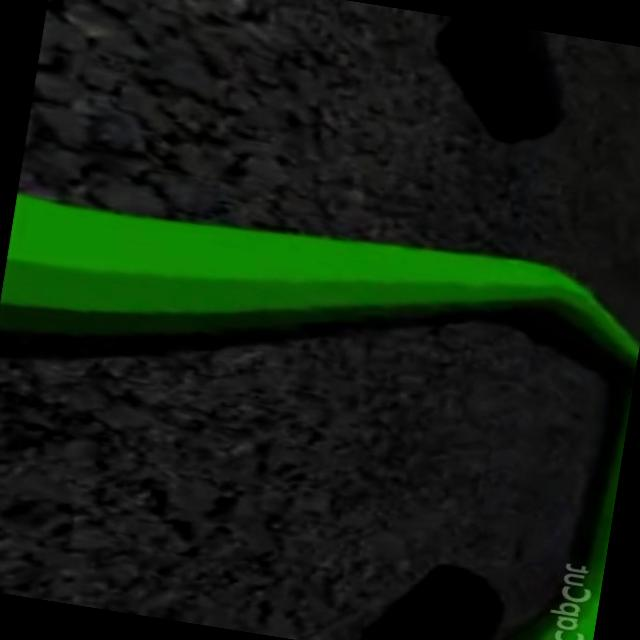gas: (0, 180, 572, 417)
